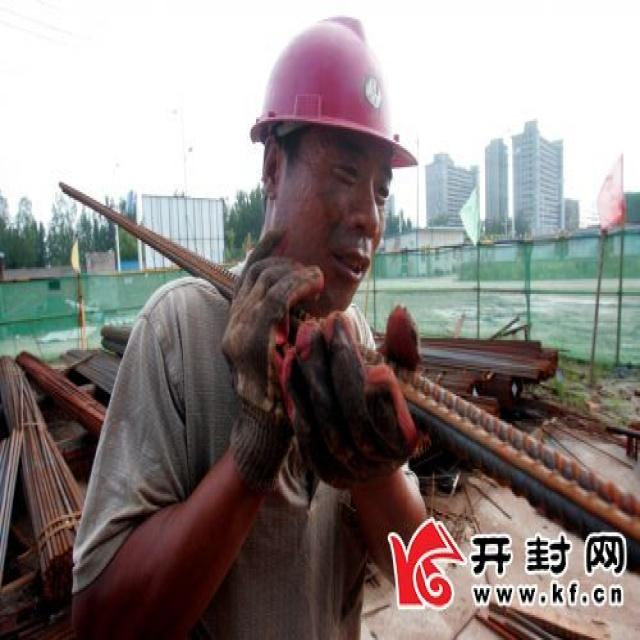helmet: (247, 2, 420, 386)
